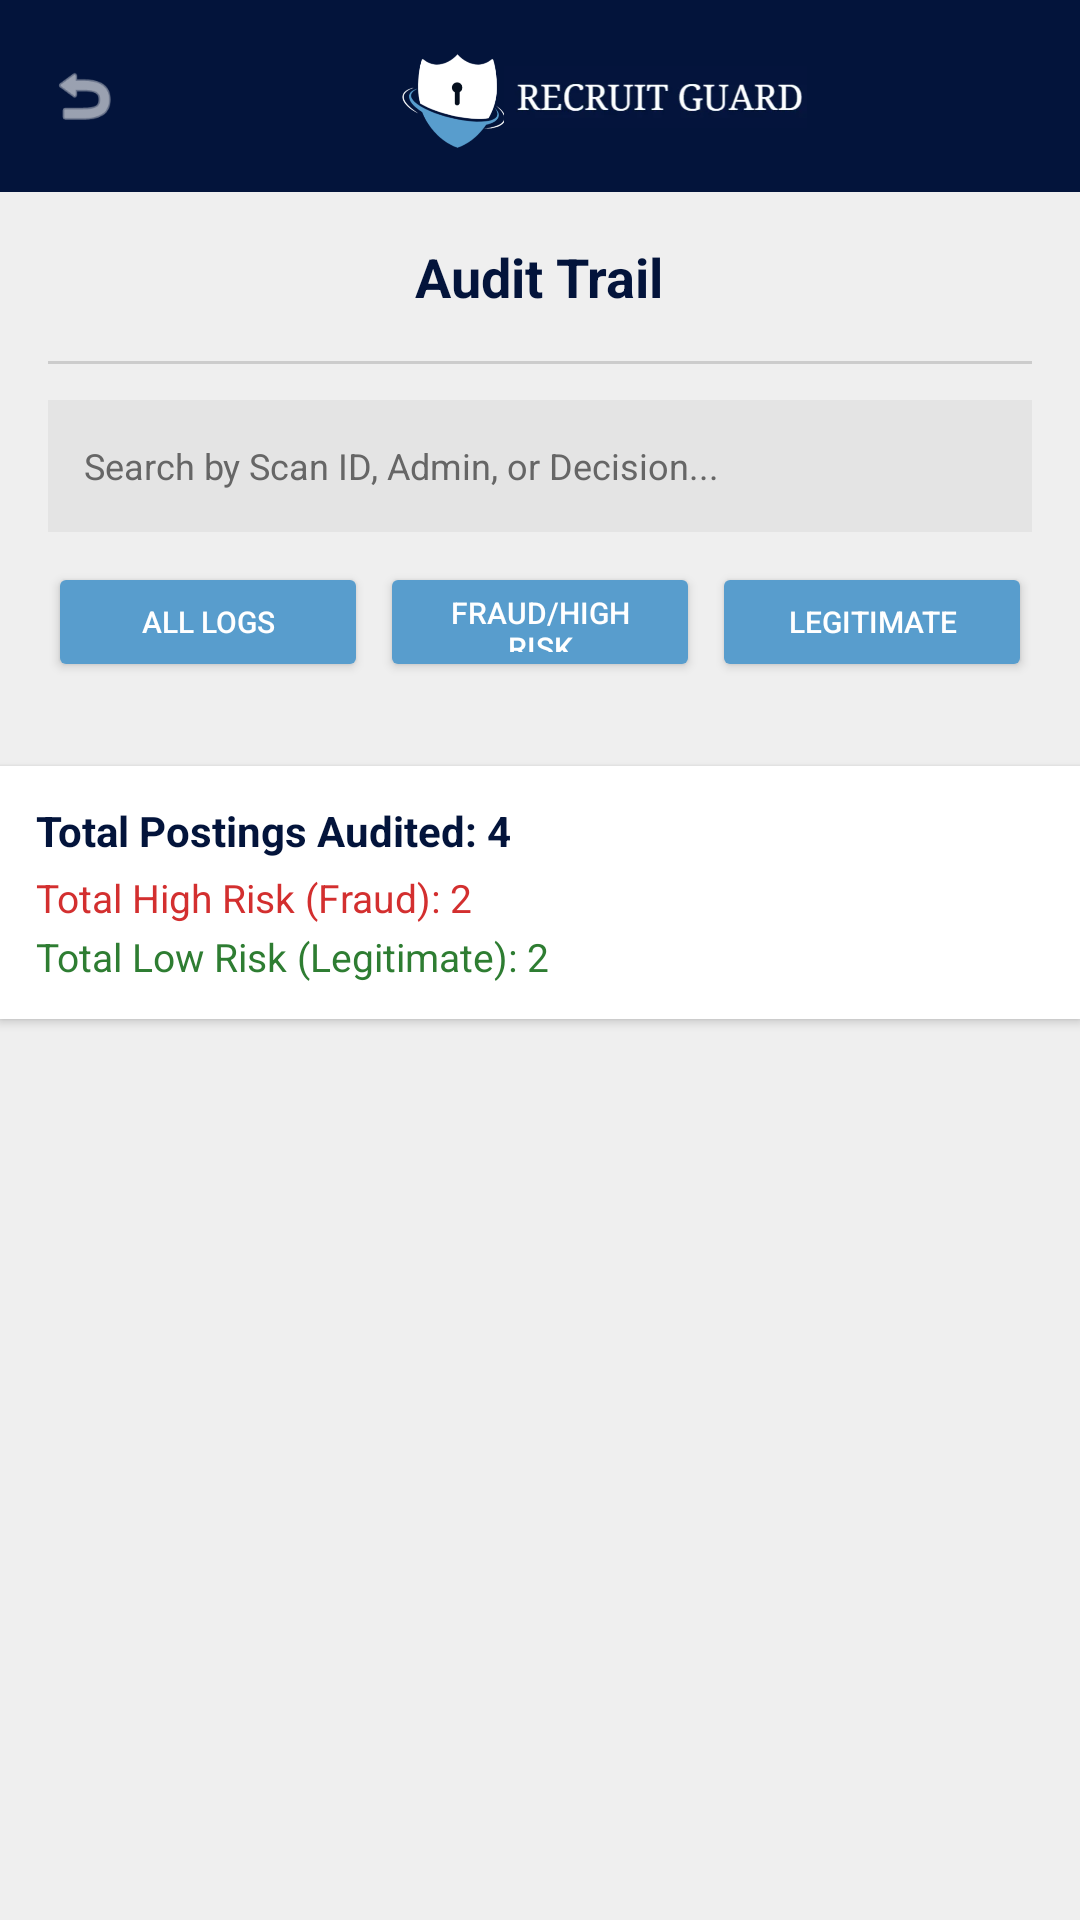

Screen size 1080*1920. Icon name, then its center in pixels as [x,y]:
revert: [85,96]
